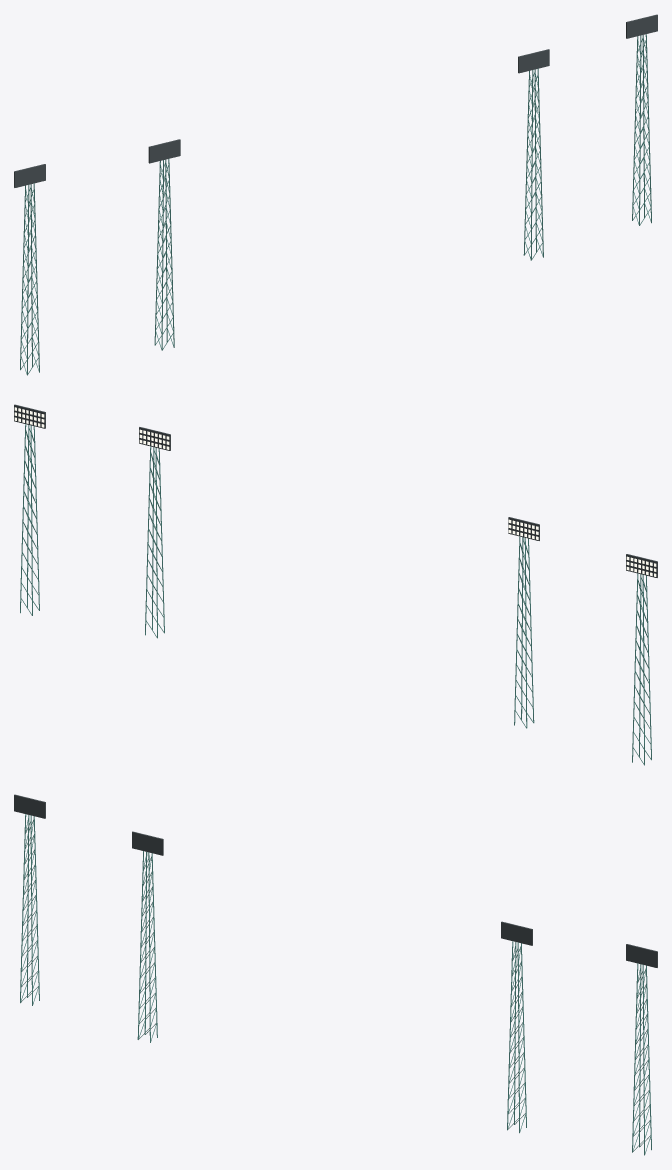
File: floodlight-masts.glb
3 renders of one model, top to bottom at view 1: azimuth 30°, elevation 25°; view 2: azimuth 150°, elevation 25°; view 3: azimuth 330°, elevation 25°, orthographic.
Visible parts, largest first — view 1: Mast steel, Lamp housing; view 2: Mast steel, Lamp housing, Lamp face; view 3: Mast steel, Lamp housing.
Boxes of the visible parts, x1,y1,x2,y2 form: Mast steel: [20, 34, 651, 375]; Lamp housing: [14, 14, 657, 187]; Mast steel: [20, 424, 651, 765]; Lamp housing: [14, 404, 657, 577]; Lamp face: [14, 407, 656, 576]; Mast steel: [20, 814, 651, 1155]; Lamp housing: [14, 794, 657, 967].
Bounding box in the file's own units: 132 × 40.03 × 5.71.
